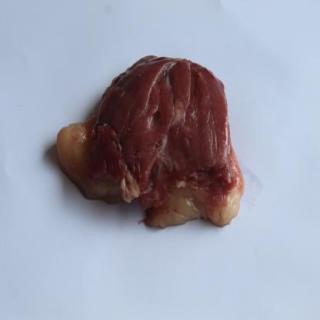Daging Sapi: (55, 54, 246, 228)
